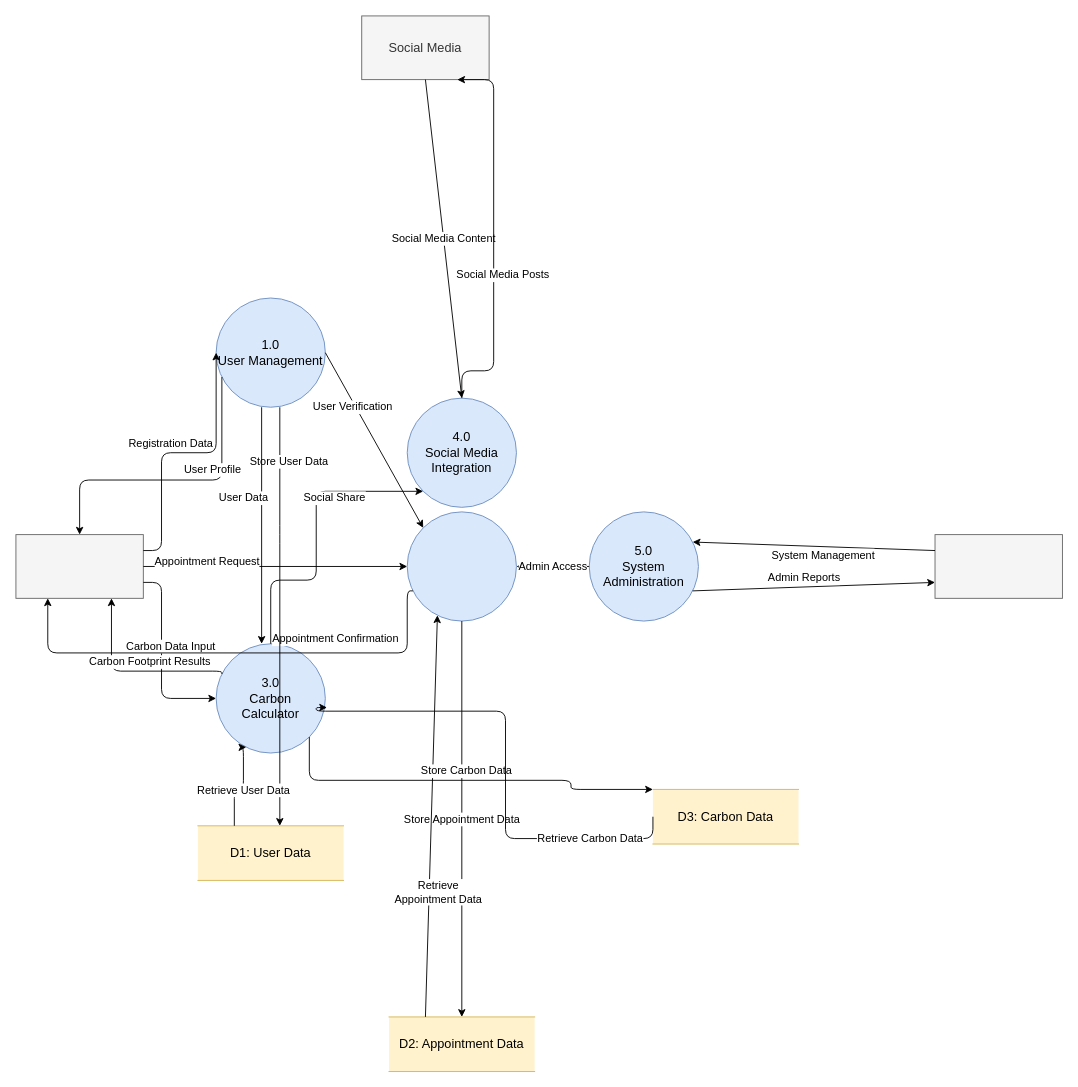
Image size: 1078x1087. Some labels were removed from this diagram. The box of each missing label's shape, as (x1, y1, x2, y2) in pixels:
2.0 Appointment System: (406, 511, 516, 621)
Admin: (934, 534, 1062, 598)
Customer: (15, 534, 143, 598)
